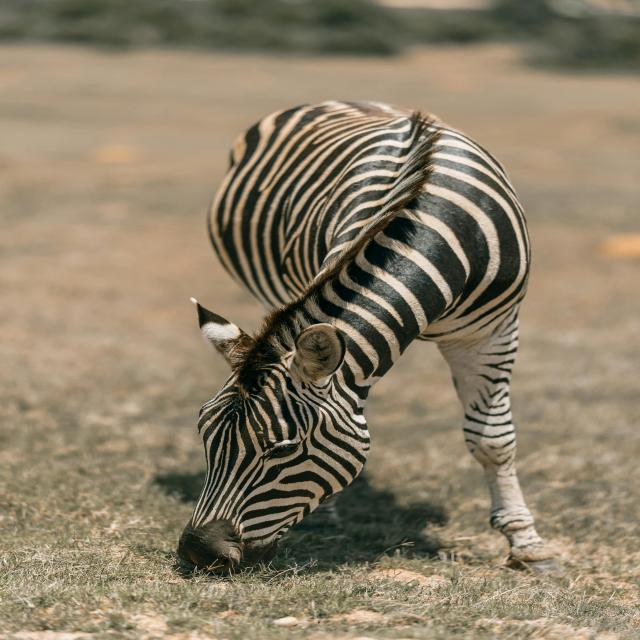Zebra: (170, 99, 561, 572)
